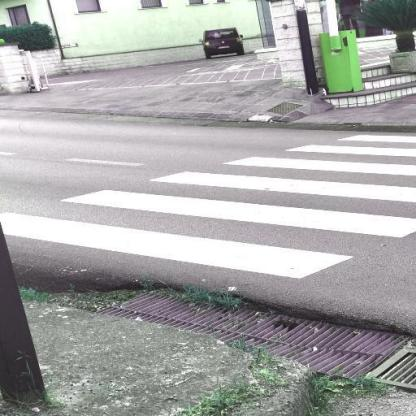crosswalk: (54, 168, 416, 245)
